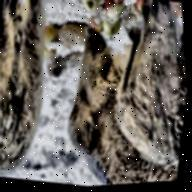boar: (51, 18, 192, 188), (98, 0, 191, 174), (0, 0, 66, 183)
